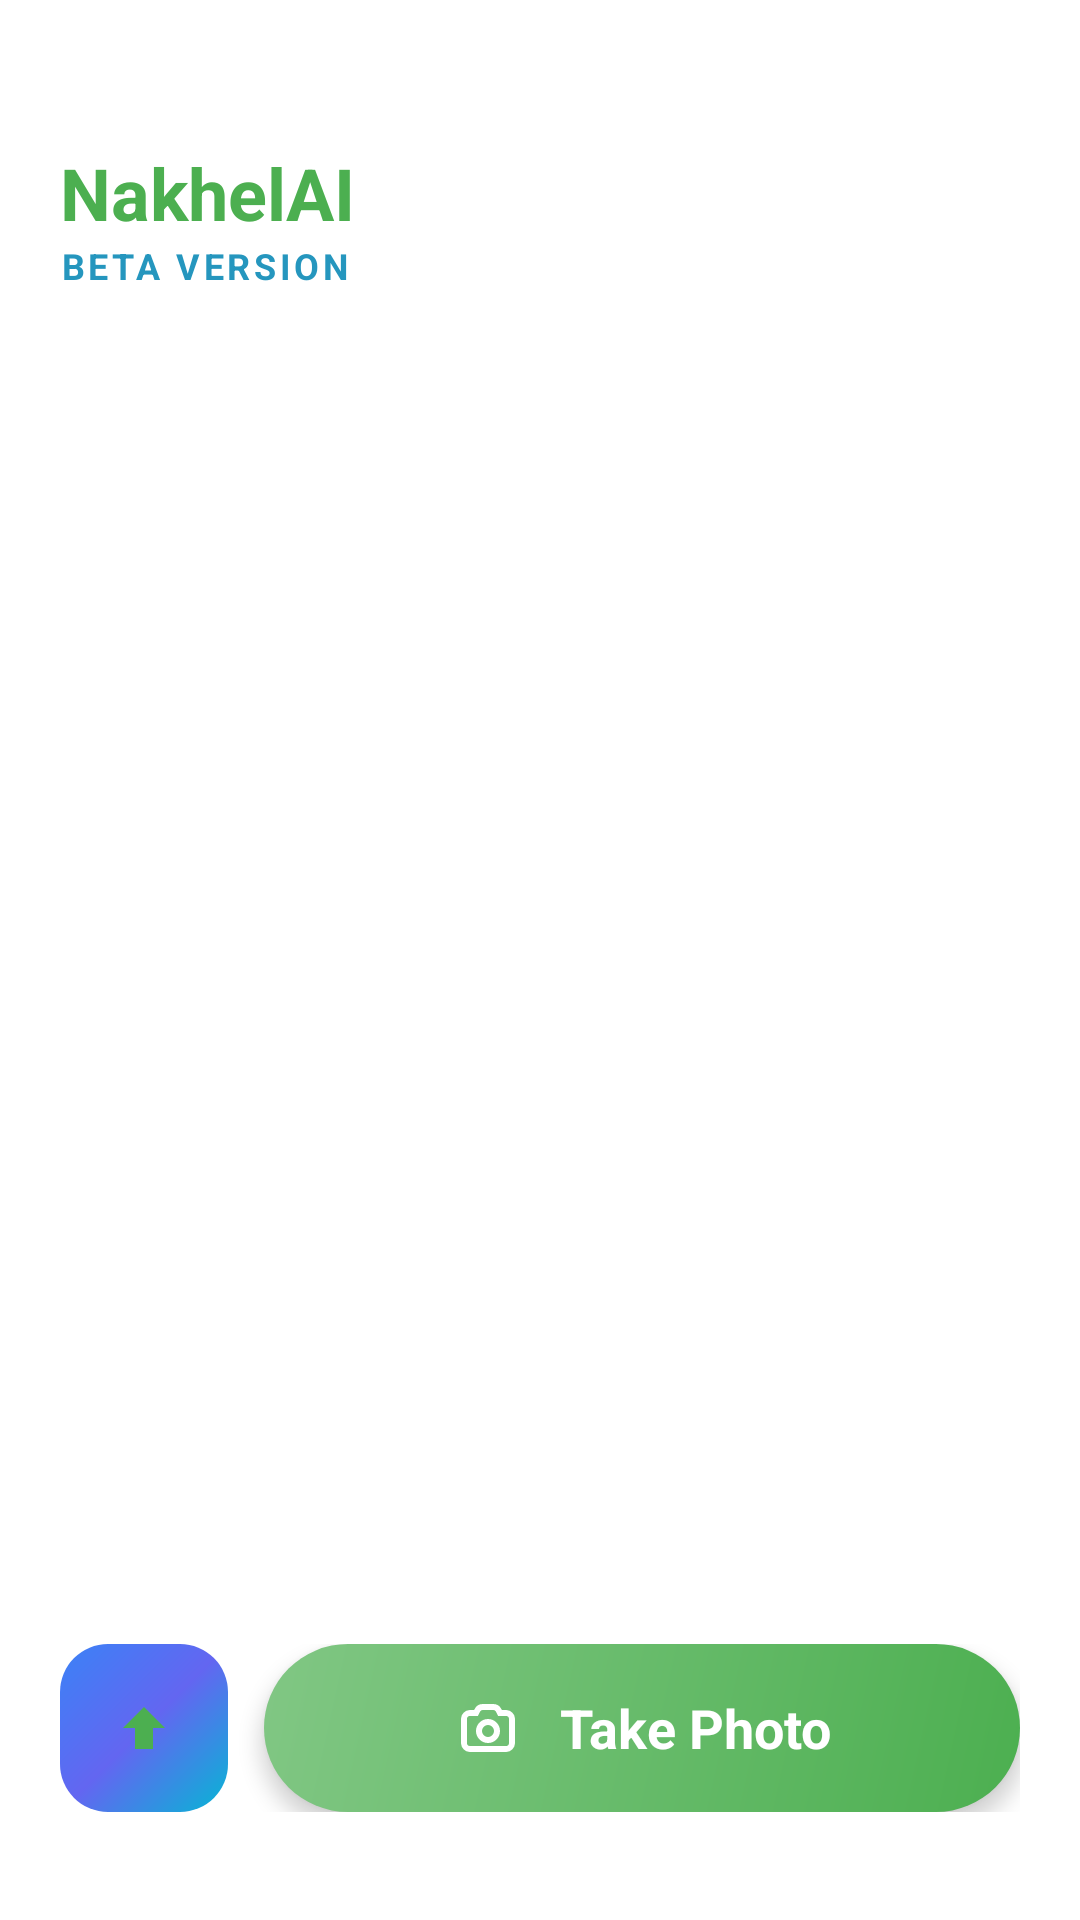

Where icons sit on this 1080×1920 app screen, as rect(x1, y1, x2, y2):
arrow up: rect(123, 1707, 165, 1749)
camera modern: rect(461, 1704, 515, 1752)
